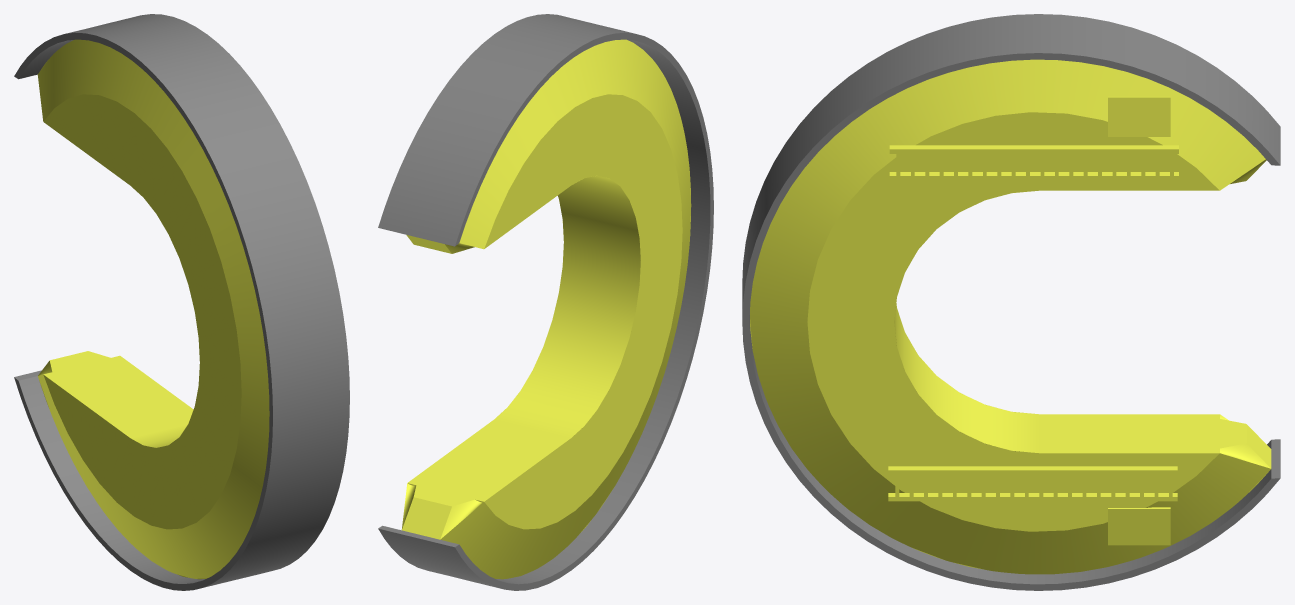
The model's file is fork v11.fbx.
The picture shows the model from 3 angles, left to right: view 1: azimuth 30°, elevation 25°; view 2: azimuth 150°, elevation 25°; view 3: azimuth 270°, elevation 25°; orthographic projection. The views are drawn at different scales.
Parts seen in each view (by area): view 1: Body9, Body11, Body10, Body13; view 2: Body9, Body11, Body10, Body13, Body12; view 3: Body9, Body12, Body13, Body1 (×4), Body11.
Boxes of the visible parts, <box> form: Body9: <box>39,59,241,579</box>; Body11: <box>14,23,311,590</box>; Body10: <box>37,39,269,578</box>; Body13: <box>103,14,349,578</box>; Body9: <box>402,94,690,539</box>; Body11: <box>416,23,713,590</box>; Body10: <box>440,39,691,579</box>; Body13: <box>378,14,594,579</box>; Body12: <box>401,200,563,529</box>; Body9: <box>750,112,1271,568</box>; Body12: <box>750,59,1270,574</box>; Body13: <box>742,33,1280,590</box>; Body1 (×4): <box>888,96,1178,545</box>; Body11: <box>742,14,1280,458</box>.
Size of the model in its own units: 1945 by 11316 by 10264.
